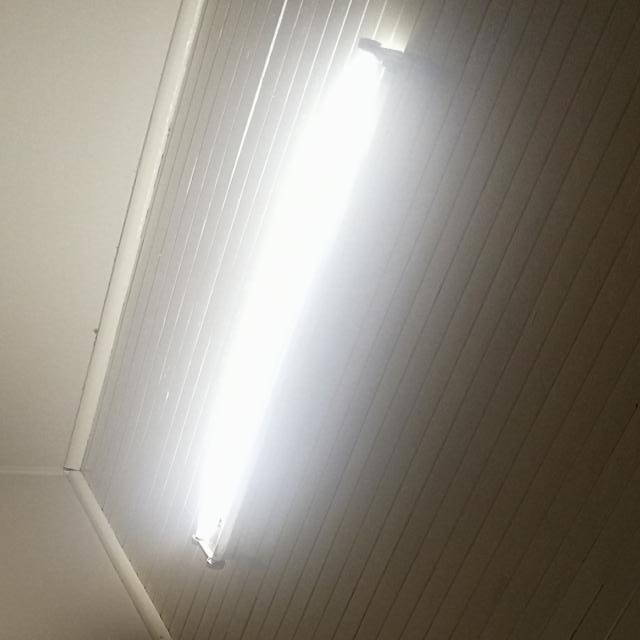fluorescent tube: (151, 24, 433, 594)
